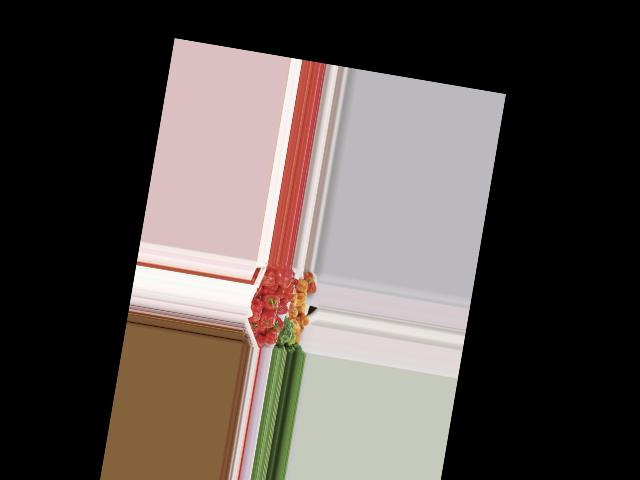bell_pepper: (246, 296, 264, 323)
